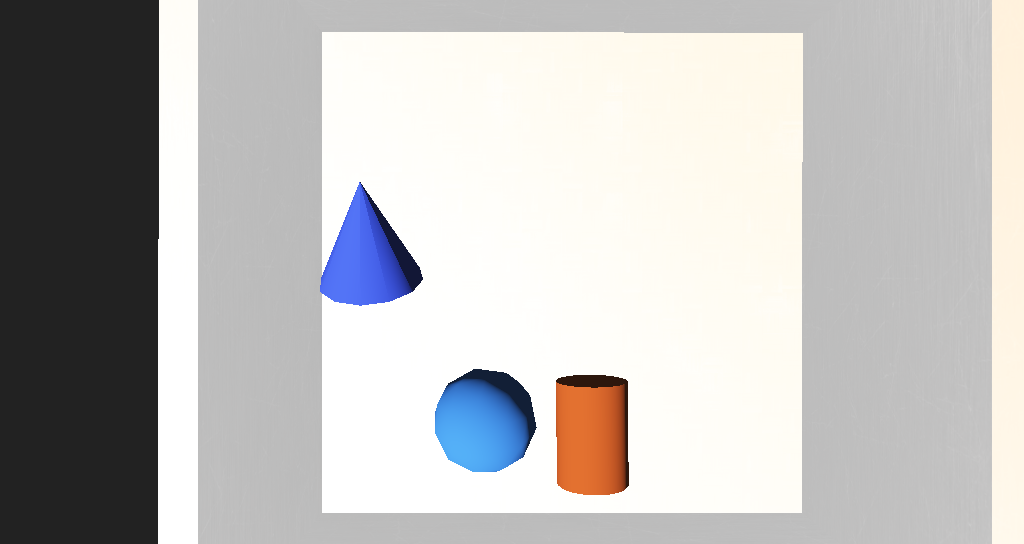cone: (502, 315, 549, 363)
cylinder: (347, 222, 421, 284)
sphere: (428, 313, 488, 356)
